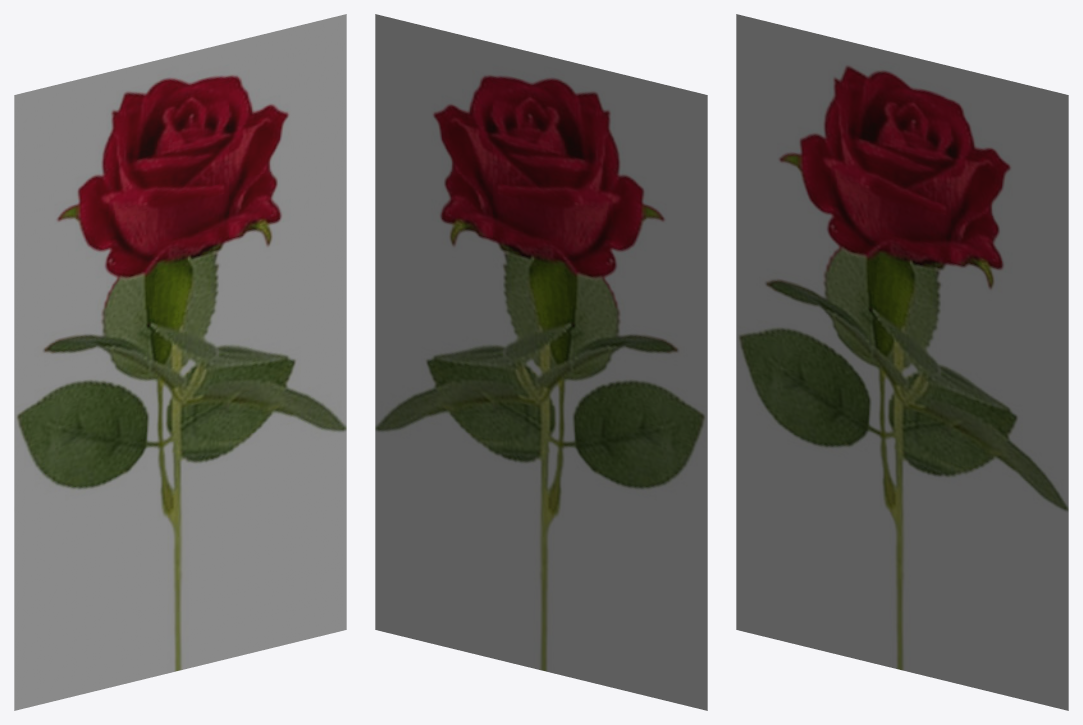
The picture shows the model from 3 angles, left to right: view 1: azimuth 30°, elevation 25°; view 2: azimuth 150°, elevation 25°; view 3: azimuth 330°, elevation 25°; orthographic projection.
Parts seen in each view (by area): view 1: Layer 1 Mesh; view 2: Layer 1 Mesh; view 3: Layer 1 Mesh.
Boxes of the visible parts, left/top/right/bottom form: Layer 1 Mesh: left=14, top=14, right=346, bottom=710; Layer 1 Mesh: left=375, top=14, right=707, bottom=710; Layer 1 Mesh: left=736, top=14, right=1068, bottom=710.
Bounding box in the file's own units: 0.5652 × 1 × 0.
Materials: 1 (1 with a texture image).
